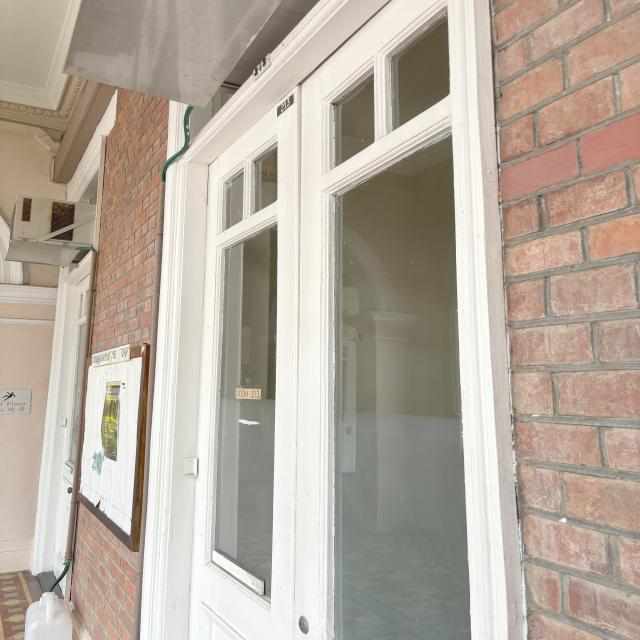MB213_cardboard: (233, 384, 263, 403)
MB213_roomNumber: (273, 92, 296, 118)
MB213_roomNumber_blackdigit: (247, 51, 274, 82)
